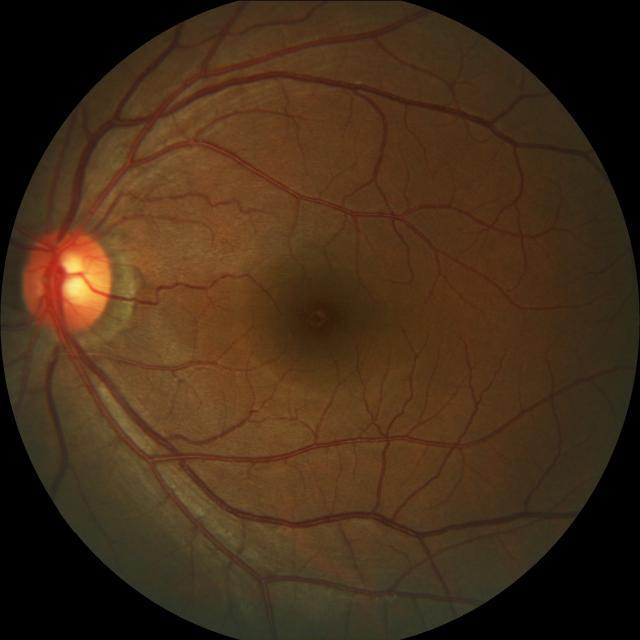OC: (48, 251, 94, 305)
OD: (22, 225, 116, 333)
